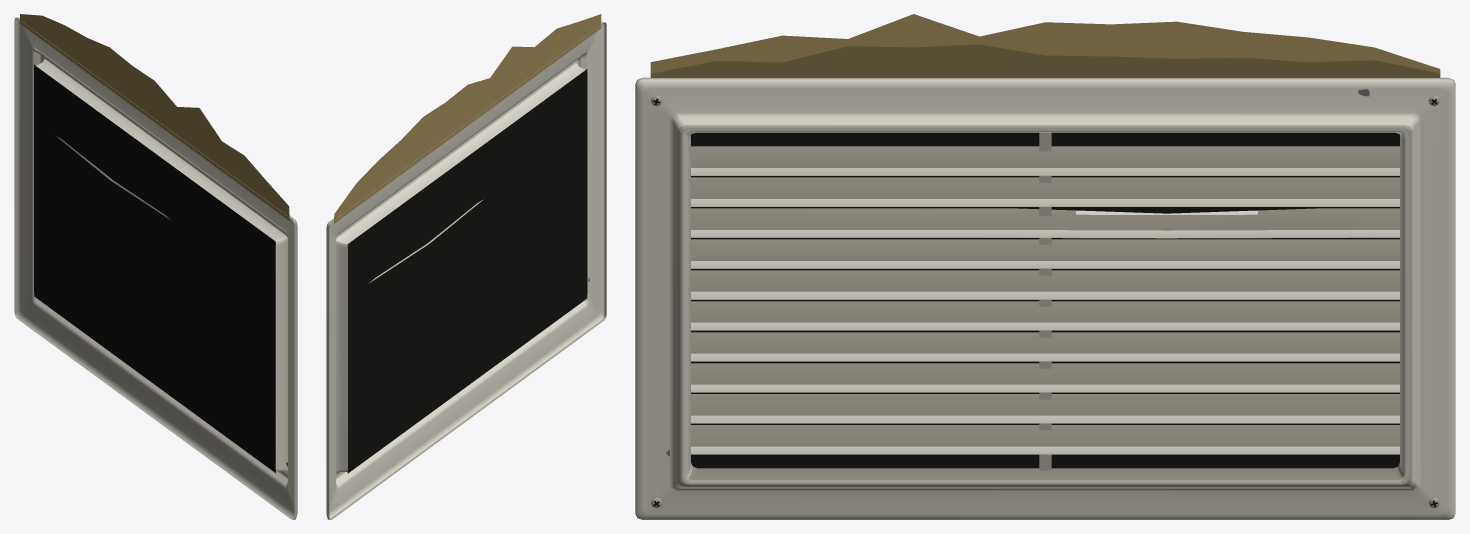
File: vent_grille@1.glb
3 renders of one model, left to right at view 1: azimuth 30°, elevation 25°; view 2: azimuth 150°, elevation 25°; view 3: azimuth 270°, elevation 25°, orthographic. The views are drawn at different scales.
Parts seen in each view (by area): view 1: lueftungsgitter; view 2: lueftungsgitter; view 3: lueftungsgitter.
Part boxes in pixels (x1=…): lueftungsgitter: x1=14, y1=14, x2=297, y2=519; lueftungsgitter: x1=326, y1=14, x2=606, y2=519; lueftungsgitter: x1=635, y1=14, x2=1455, y2=519.
Size of the model in its own units: 0.0163 by 0.3665 by 0.54.
